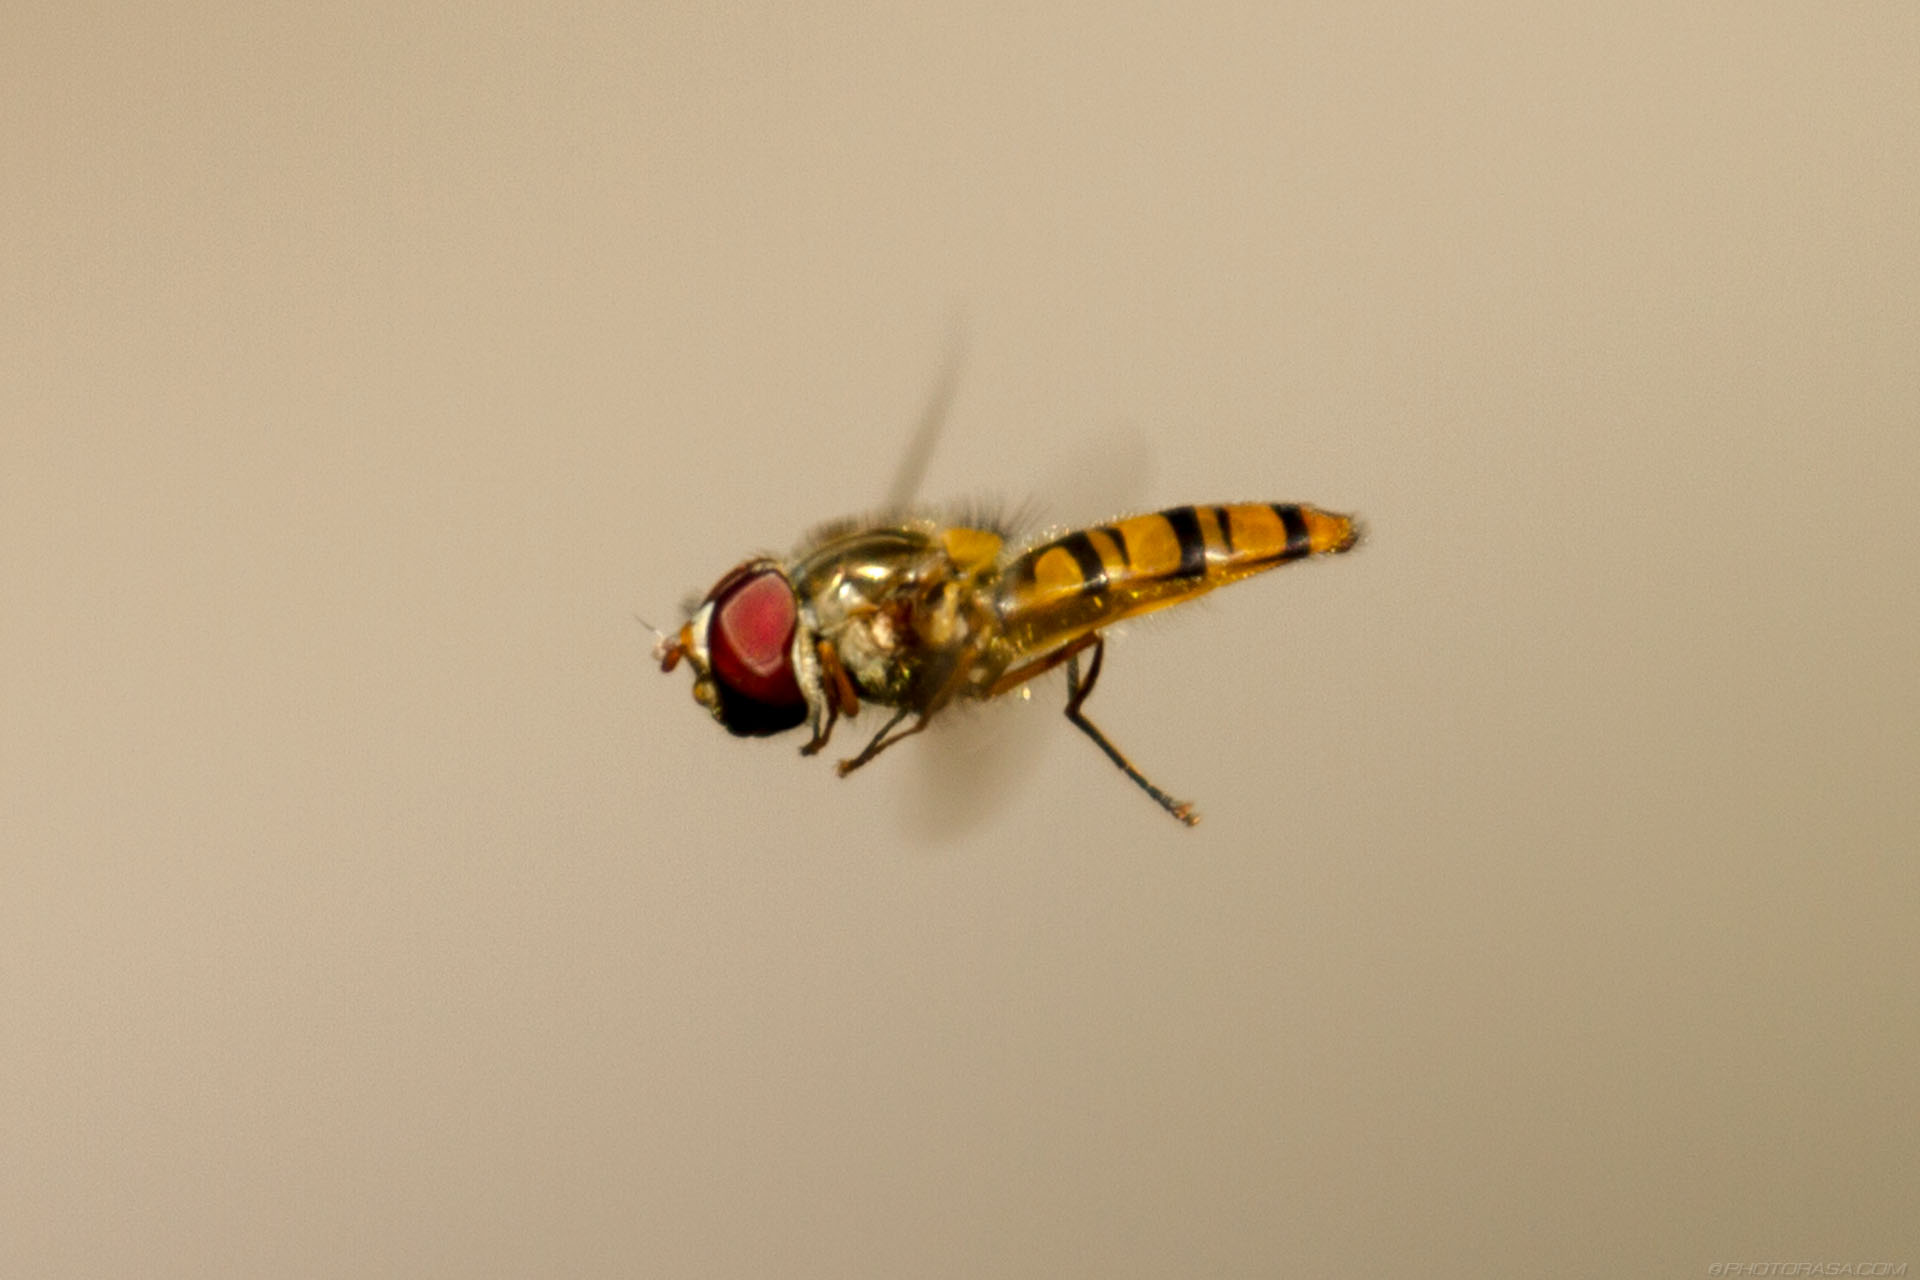insect: (641, 489, 1357, 833)
